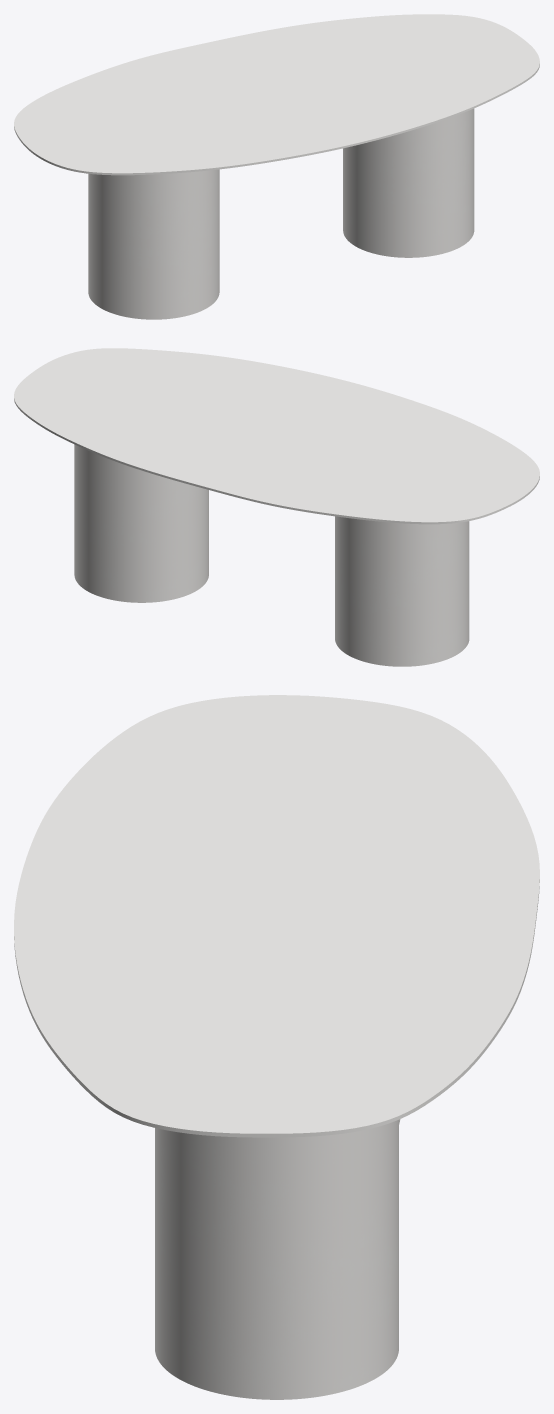
File: purewhite_danish_facet_stream.glb
3 renders of one model, top to bottom at view 1: azimuth 30°, elevation 25°; view 2: azimuth 150°, elevation 25°; view 3: azimuth 270°, elevation 25°, orthographic. The views are drawn at different scales.
Parts seen in each view (by area): view 1: facet_danish, stream; view 2: facet_danish, stream; view 3: facet_danish, stream.
Part boxes in pixels (box(x1,y1,x2,y2)): facet_danish: box(14, 14, 539, 175); stream: box(88, 108, 474, 319); facet_danish: box(14, 348, 539, 524); stream: box(74, 444, 469, 666); facet_danish: box(14, 695, 539, 1137); stream: box(155, 1119, 400, 1399).
Size of the model in its own units: 7.5 by 2.5 by 3.8.
Materials: 1 (1 with a texture image).
